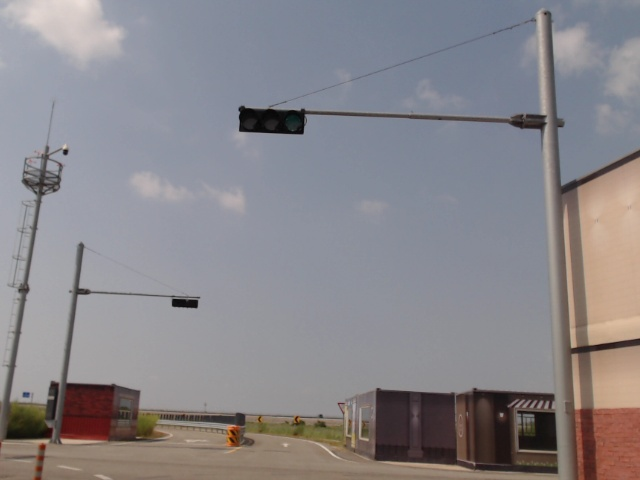green_3: (239, 108, 305, 135)
